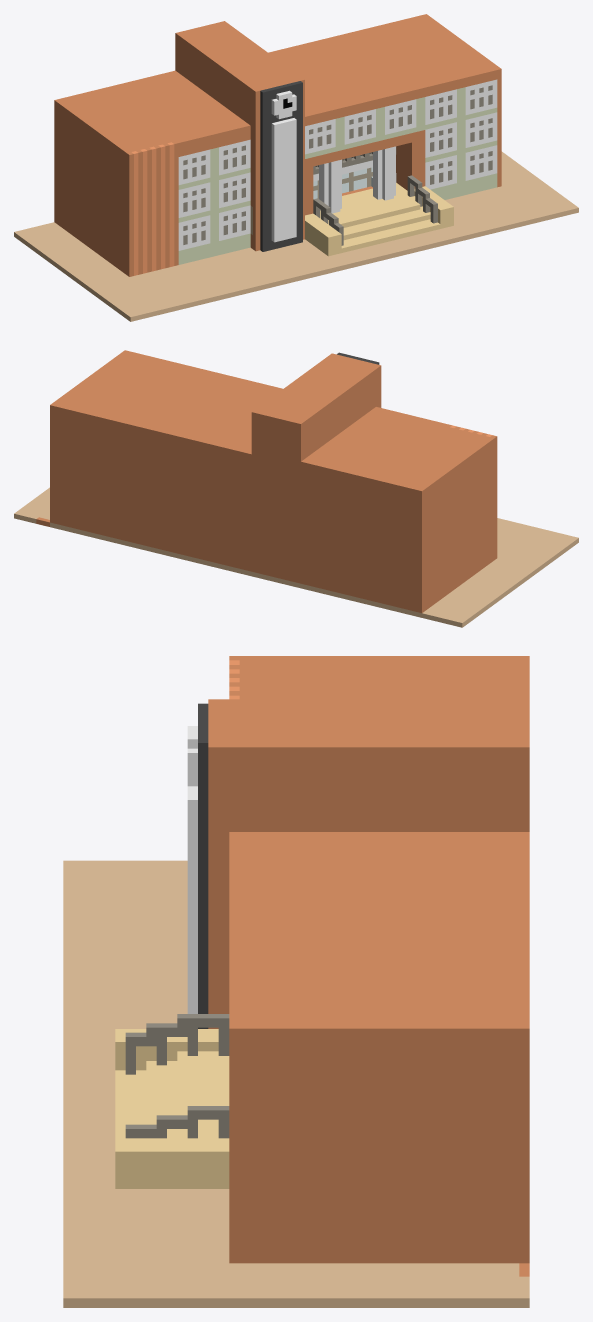
File: kagosimadaigaku.glb
3 renders of one model, top to bottom at view 1: azimuth 30°, elevation 25°; view 2: azimuth 150°, elevation 25°; view 3: azimuth 270°, elevation 25°, orthographic. The views are drawn at different scales.
Parts seen in each view (by area): view 1: Untitled; view 2: Untitled; view 3: Untitled.
Part boxes in pixels (left/top/right/bottom): Untitled: left=14, top=14, right=578, bottom=321; Untitled: left=14, top=350, right=578, bottom=627; Untitled: left=63, top=656, right=529, bottom=1307.
Size of the model in its own units: 2 by 0.7 by 0.9.
Materials: 1 (1 with a texture image).
